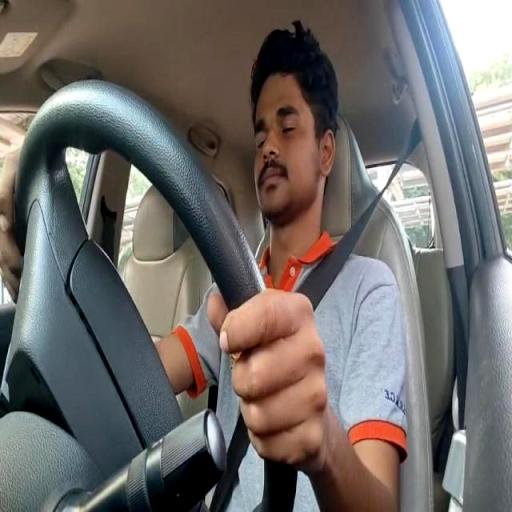Closed Eye: (250, 30, 338, 259)
